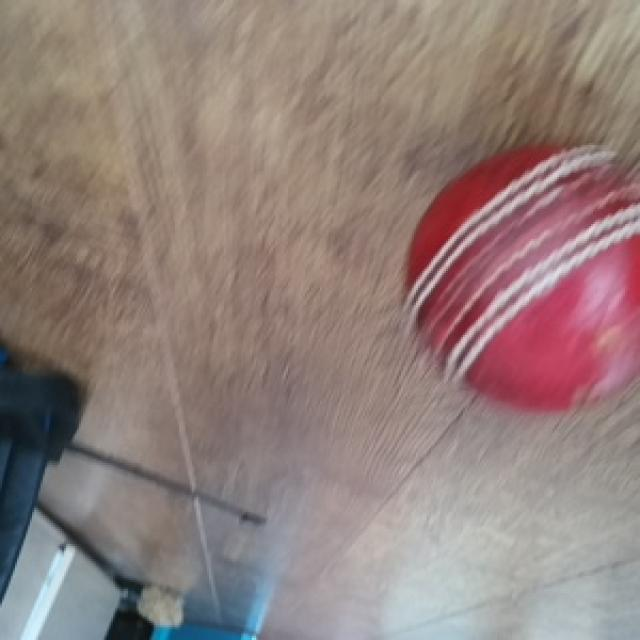ball: (401, 143, 640, 418)
